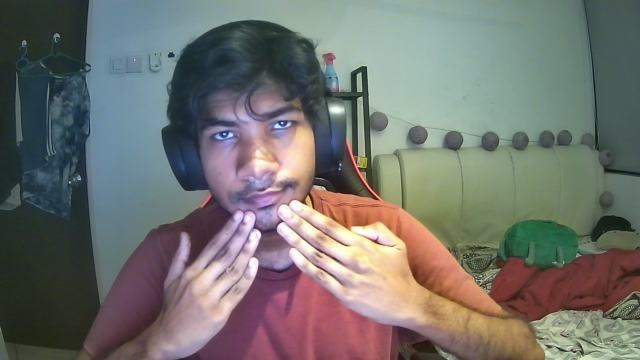Thank You: (162, 200, 418, 350)
